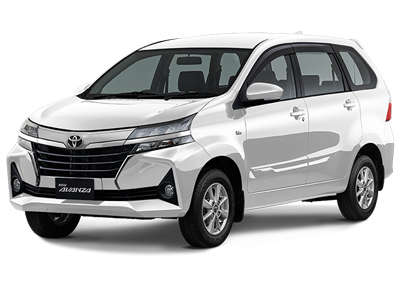pickup: (5, 28, 393, 249)
